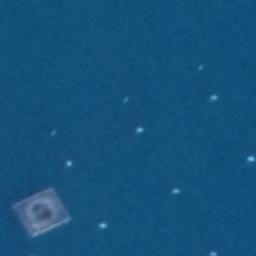square_cover: (10, 183, 76, 243)
